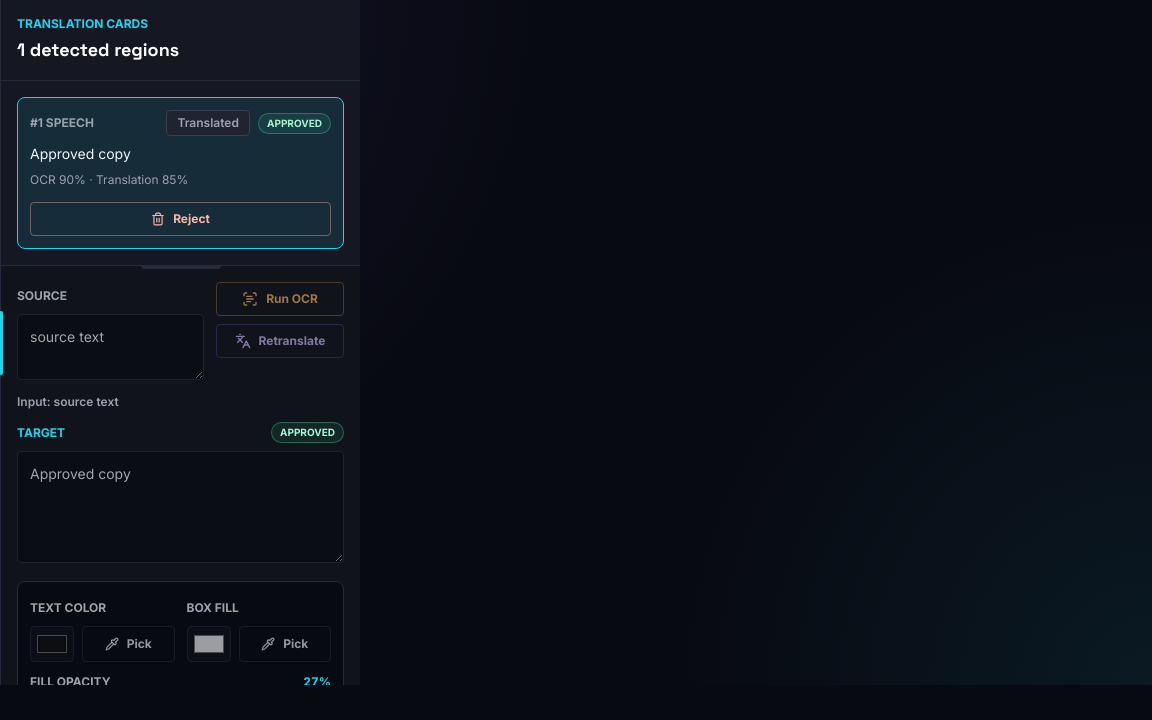
Test: RegionPanel › locks approved regions from edits, saves, OCR, and translation
expect the text box labelled "Source" is disabled: met, box x1=17 y1=314 x2=204 y2=380
expect the text box labelled "Target Approved" is disabled: met, box x1=17 y1=451 x2=344 y2=563
Step 1. Click the button with aria-label "translate region" → (280,341), box x1=216 y1=324 x2=344 y2=358
(page scrolled)
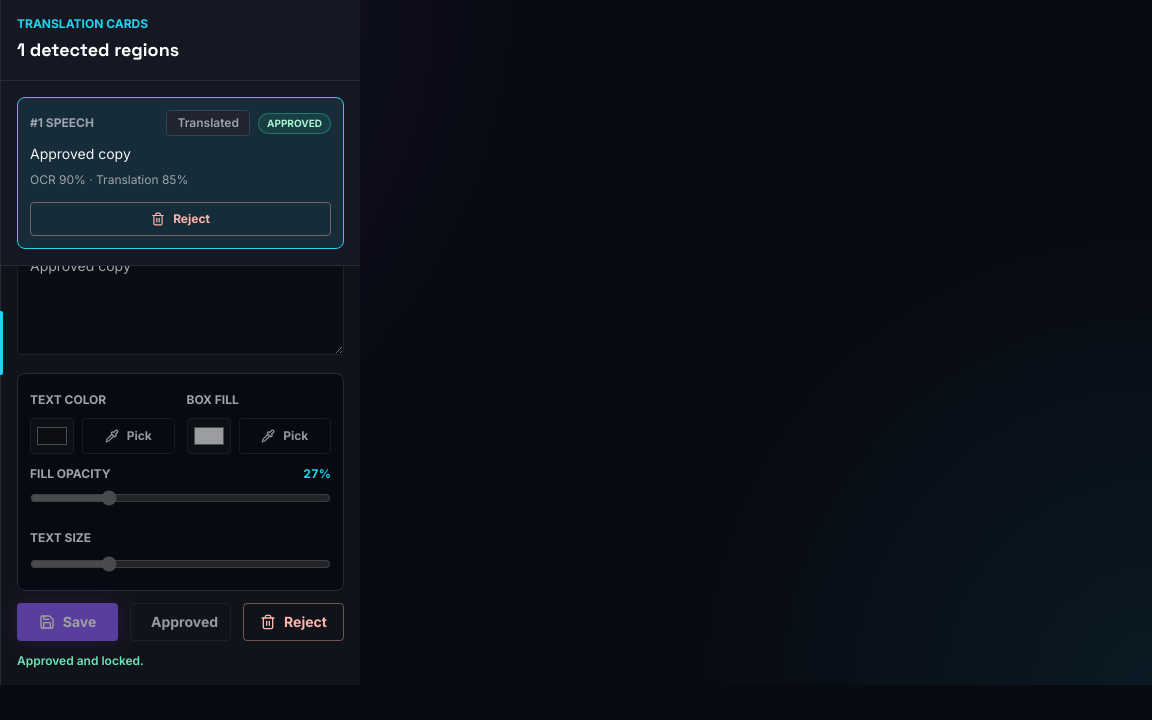
expect the message reads "Approved and locked.": met, box x1=17 y1=653 x2=144 y2=668
